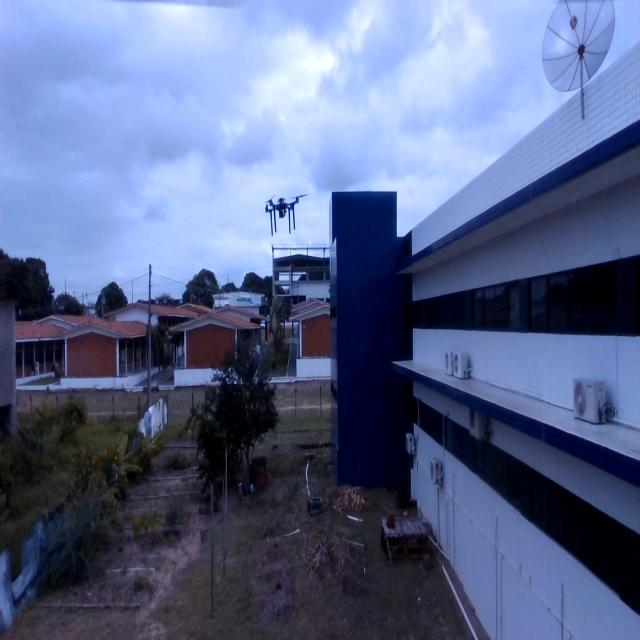-uav-: (259, 185, 314, 248)
